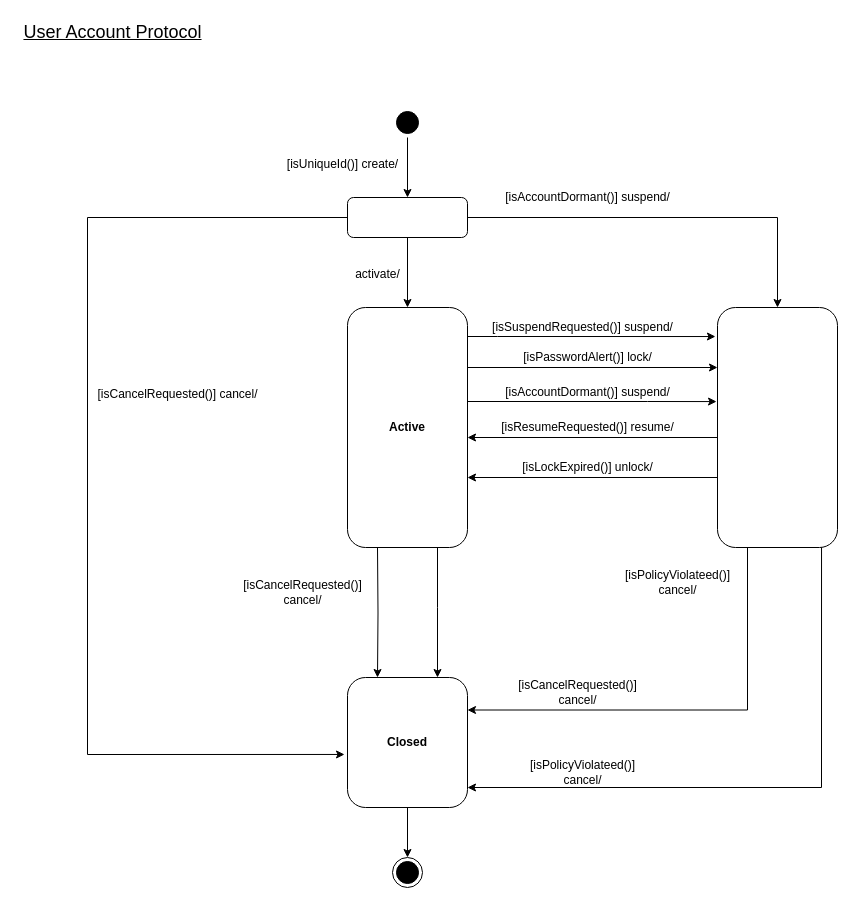
Some shapes in this 855 by 905 pixel diagram are drawn without their labels. Here are the shapes that lost their labels. From the top down, the centre of each, then its label:
pixel 407 217: New
pixel 777 427: Suspended
